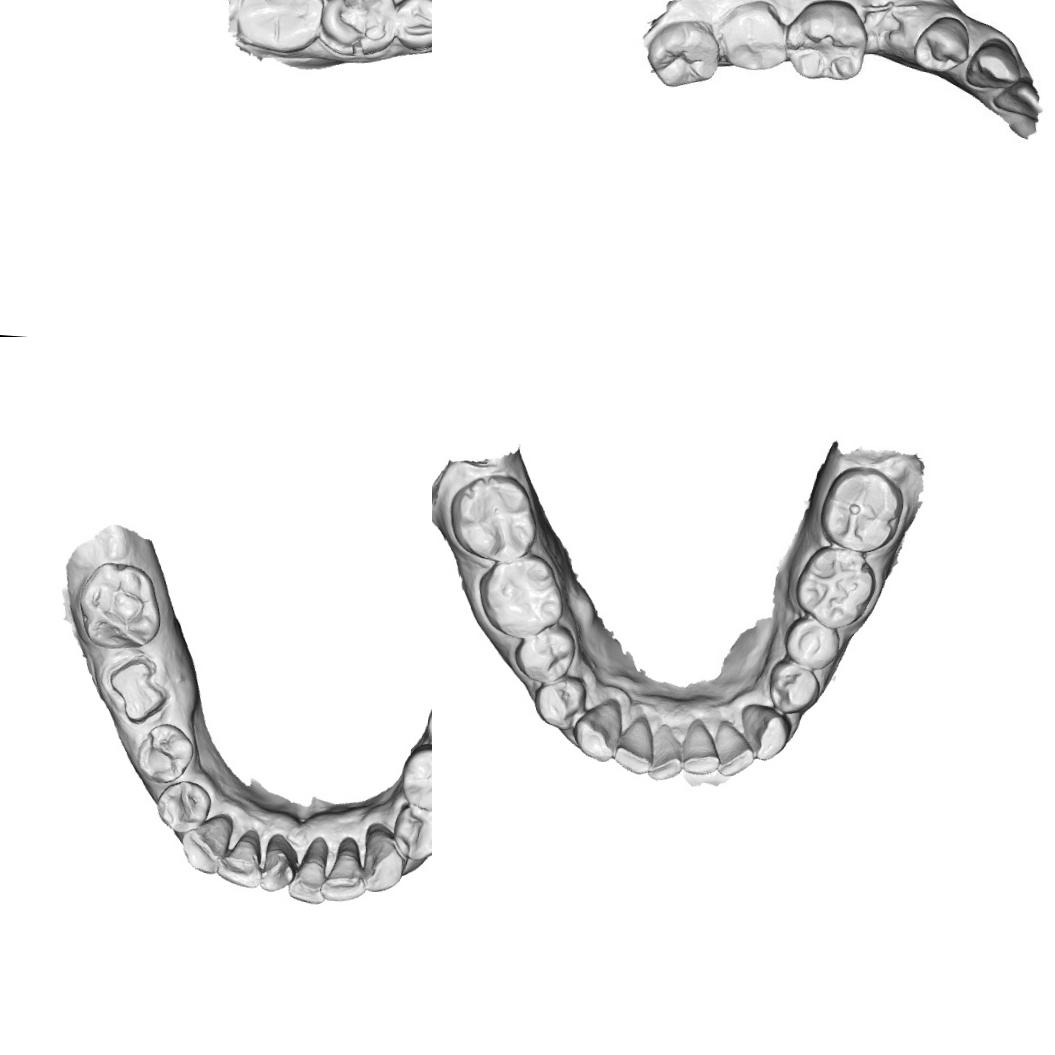canine: (178, 809, 236, 880), (735, 701, 792, 764), (960, 36, 1024, 92), (572, 693, 622, 764), (360, 826, 408, 895)
crown: (102, 657, 173, 730)
incisor: (282, 836, 330, 908), (319, 835, 368, 904), (215, 829, 268, 890), (609, 714, 654, 778), (710, 718, 756, 780), (645, 718, 686, 786), (677, 715, 720, 778), (255, 833, 296, 895), (990, 73, 1042, 116)
molar: (72, 554, 164, 654), (445, 470, 541, 564), (474, 550, 569, 642), (817, 461, 907, 554), (790, 543, 877, 632), (781, 0, 867, 88), (641, 14, 727, 92), (714, 0, 787, 76), (317, 0, 399, 63), (236, 0, 322, 54)
premolar: (129, 718, 198, 786), (513, 620, 577, 686), (912, 17, 973, 80), (532, 674, 588, 734), (152, 777, 211, 833), (763, 660, 820, 717), (782, 616, 841, 670), (388, 801, 432, 864), (396, 743, 432, 813), (392, 0, 432, 53)
